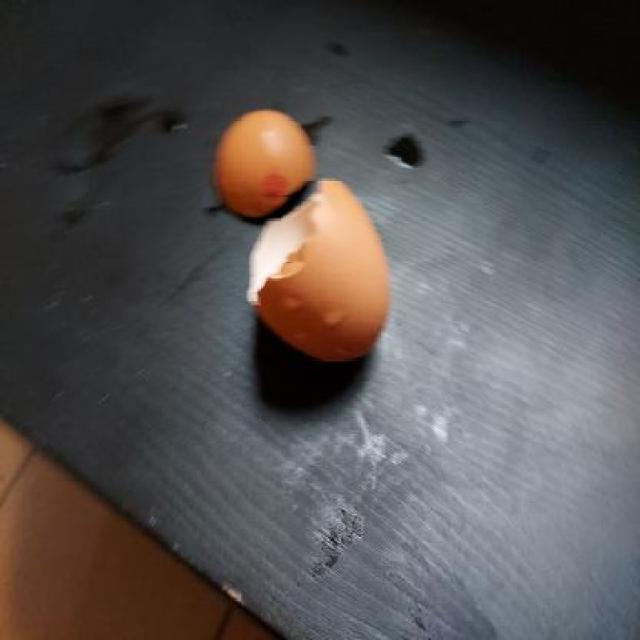biodegradable: (248, 177, 392, 383), (212, 104, 320, 218)
